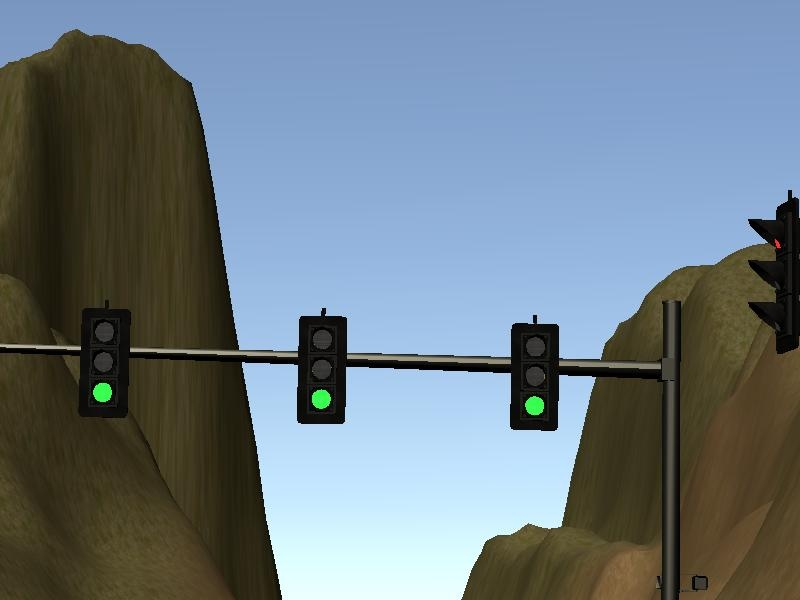traffic_light_green: (63, 296, 662, 434)
